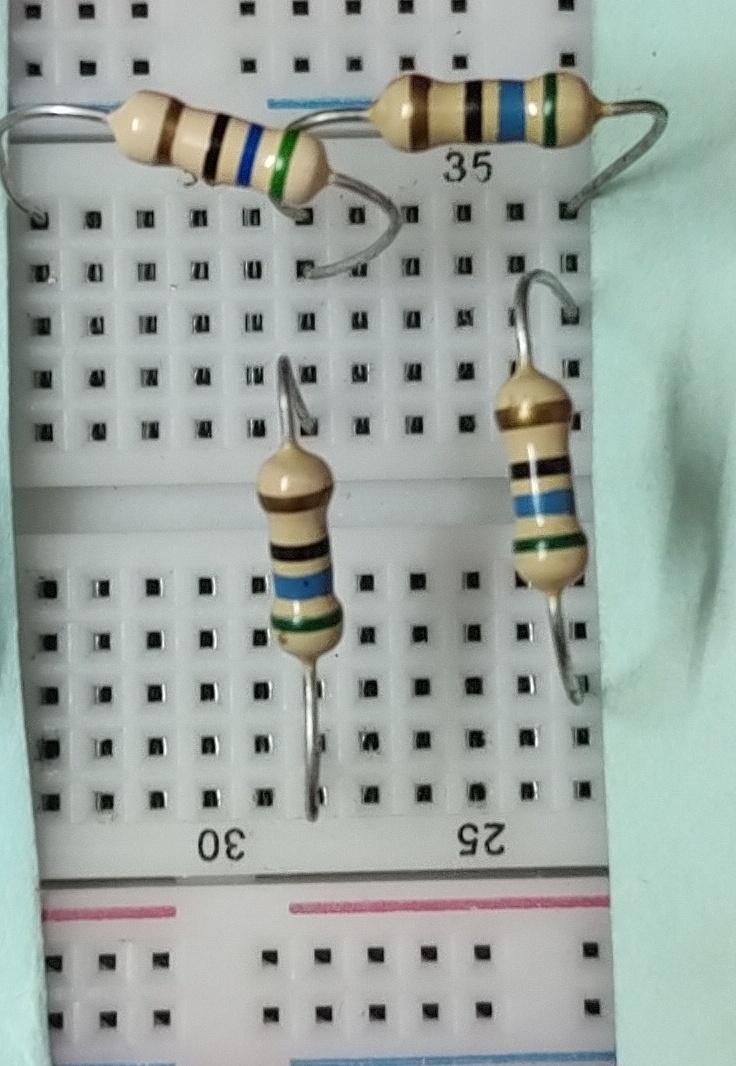resistor: (99, 75, 341, 231), (483, 355, 604, 621), (241, 449, 383, 669), (359, 67, 617, 168)
